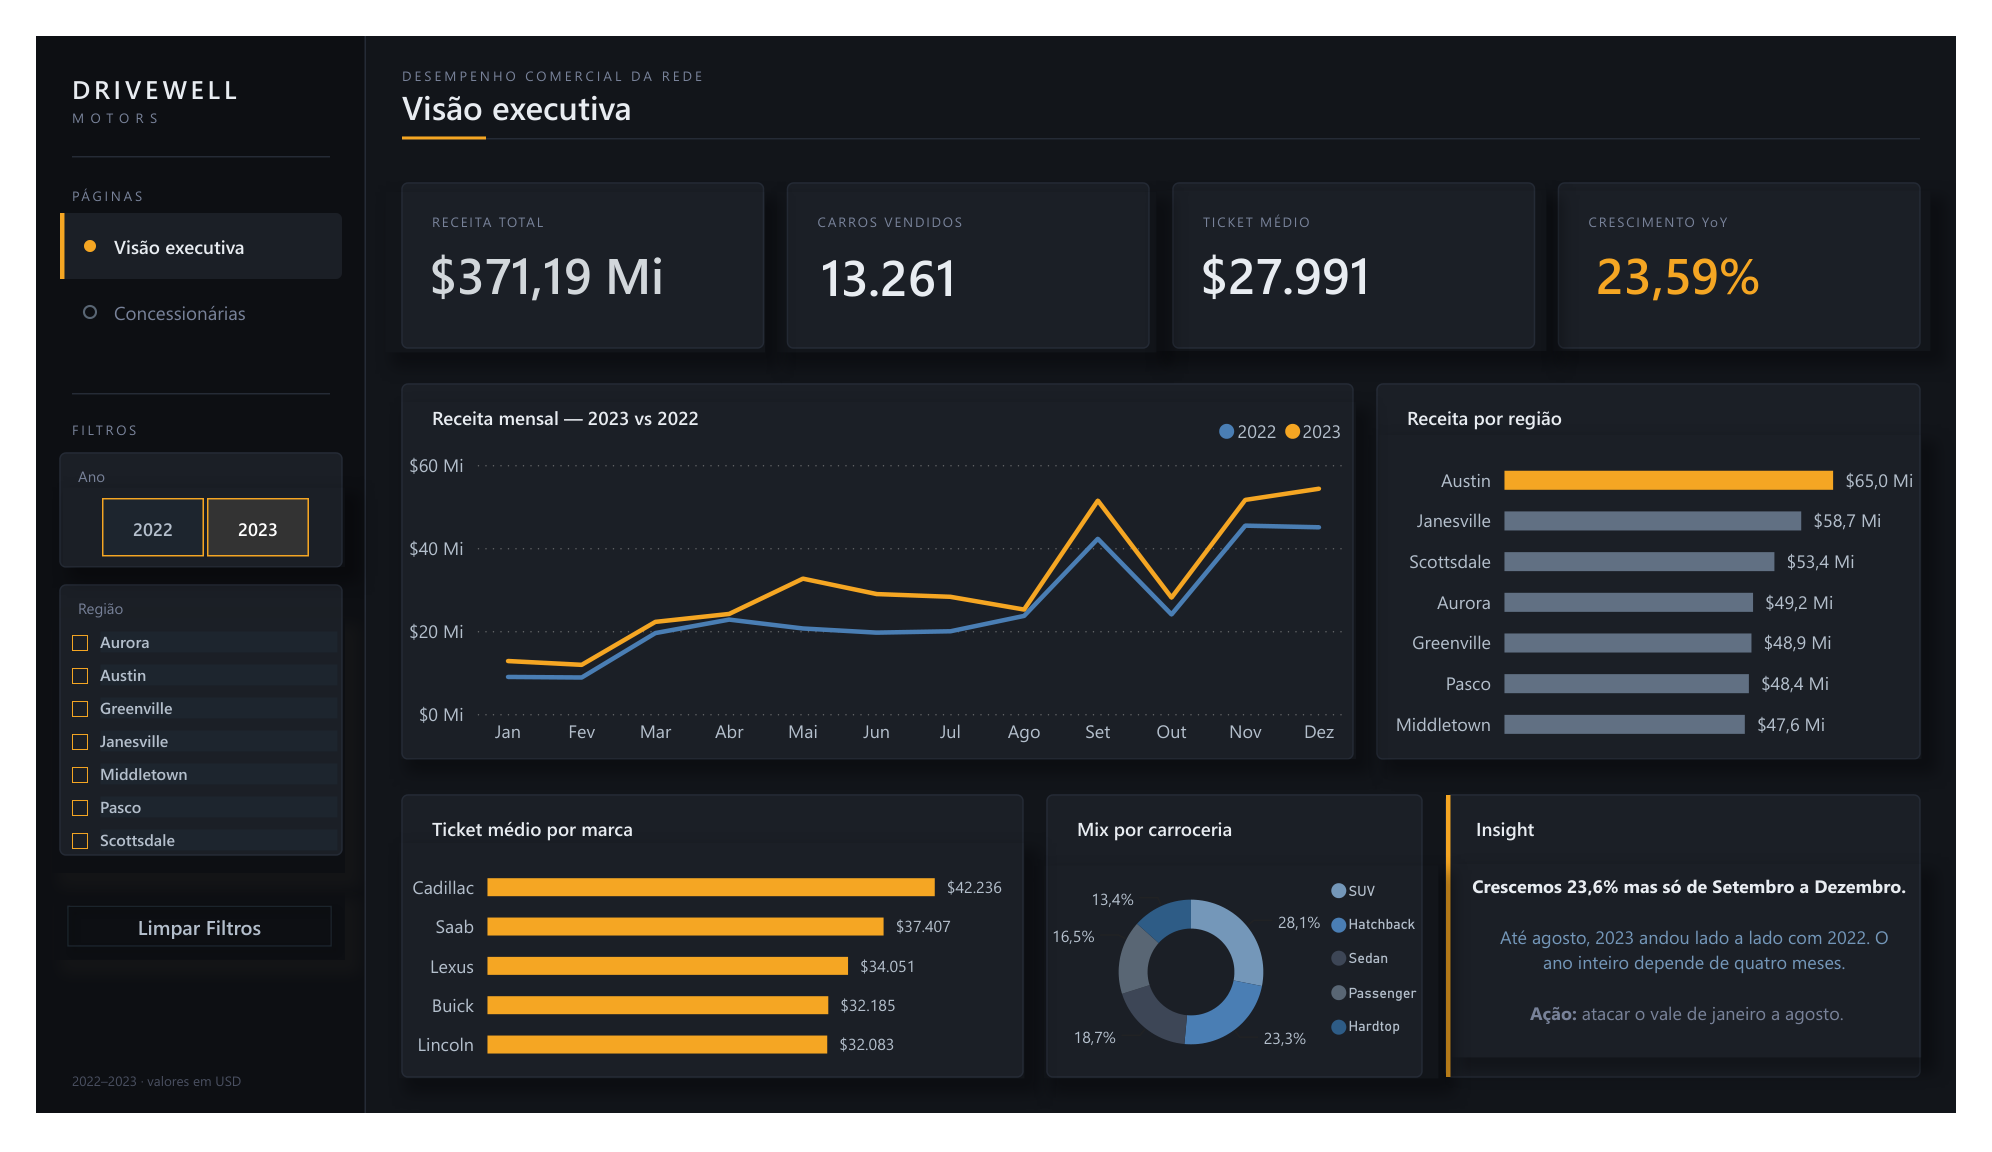

What the dashboard file says about the page in this screenshot:
{"tool":"powerbi","page":{"name":"Visão Executiva","canvas":[1280,720],"ordinal":0},"visuals":[{"type":"slicer","fields":{"Values":["dCalendario.Ano"]},"box":[18.2,300.9,188.2,52.7],"z":0},{"type":"slicer","fields":{"Values":["fVendas.Região"]},"box":[11.4,387.9,194.3,170],"z":1000},{"type":"cardVisual","fields":{"Data":["_Medidas.Receita Total"]},"box":[232.5,103.8,253.1,106.9],"z":2000},{"type":"cardVisual","fields":{"Data":["_Medidas.Carros Vendidos"]},"box":[494.3,103.6,252.9,107.1],"z":3000},{"type":"cardVisual","fields":{"Data":["_Medidas.Ticket Médio"]},"box":[746.7,102.5,260,107.5],"z":4000},{"type":"cardVisual","fields":{"Data":["_Medidas.Crescimento YoY %"]},"box":[1010.8,102.5,252.5,107.5],"z":5000},{"type":"lineChart","fields":{"Category":["dCalendario.NomeMesAbreviado"],"Series":["dCalendario.Ano"],"Y":["_Medidas.Receita Total"]},"box":[242.5,244.2,637.5,237.5],"z":6000},{"type":"barChart","fields":{"Y":["_Medidas.Receita Total"],"Category":["fVendas.Região"]},"box":[894.6,266.2,362.3,215.4],"z":7000},{"type":"clusteredBarChart","fields":{"Category":["dVeiculos.Marca"],"Y":["_Medidas.Ticket Médio"]},"box":[242.4,538.2,417.1,156.5],"z":8000},{"type":"actionButton","box":[12.1,570.7,194.3,45.7],"z":9000},{"type":"donutChart","fields":{"Category":["dVeiculos.Carroceria"],"Y":["_Medidas.Carros Vendidos"]},"box":[672.3,553.1,263.1,141.5],"z":10000},{"type":"textbox","box":[943.8,551.5,313.1,129.2],"z":11000},{"type":"actionButton","box":[11.9,117.5,194.4,48.8],"z":12000},{"type":"actionButton","box":[11.9,166.2,194.4,43.8],"z":13000}]}

Visuals, with their boxes on the page's 1280x720 design canvas (x1, y1, x2, y2). These are canvas units, not pixel positions in the 1992x1152 screenshot, which may show the page scaled, cropped or inside an application window:
slicer - dCalendario.Ano: region(18, 301, 206, 354)
slicer - fVendas.Região: region(11, 388, 206, 558)
cardVisual - _Medidas.Receita Total: region(232, 104, 486, 211)
cardVisual - _Medidas.Carros Vendidos: region(494, 104, 747, 211)
cardVisual - _Medidas.Ticket Médio: region(747, 102, 1007, 210)
cardVisual - _Medidas.Crescimento YoY %: region(1011, 102, 1263, 210)
lineChart - dCalendario.NomeMesAbreviado x dCalendario.Ano: region(242, 244, 880, 482)
barChart - _Medidas.Receita Total x fVendas.Região: region(895, 266, 1257, 482)
clusteredBarChart - dVeiculos.Marca x _Medidas.Ticket Médio: region(242, 538, 660, 695)
actionButton: region(12, 571, 206, 616)
donutChart - dVeiculos.Carroceria x _Medidas.Carros Vendidos: region(672, 553, 935, 695)
textbox: region(944, 552, 1257, 681)
actionButton: region(12, 118, 206, 166)
actionButton: region(12, 166, 206, 210)
